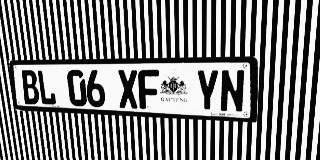0: (66, 70, 87, 107)
6: (85, 70, 106, 107)
B: (20, 70, 40, 105)
F: (138, 70, 160, 110)
L: (36, 70, 57, 105)
N: (220, 69, 245, 113)
X: (117, 70, 139, 109)
Y: (196, 69, 219, 112)
